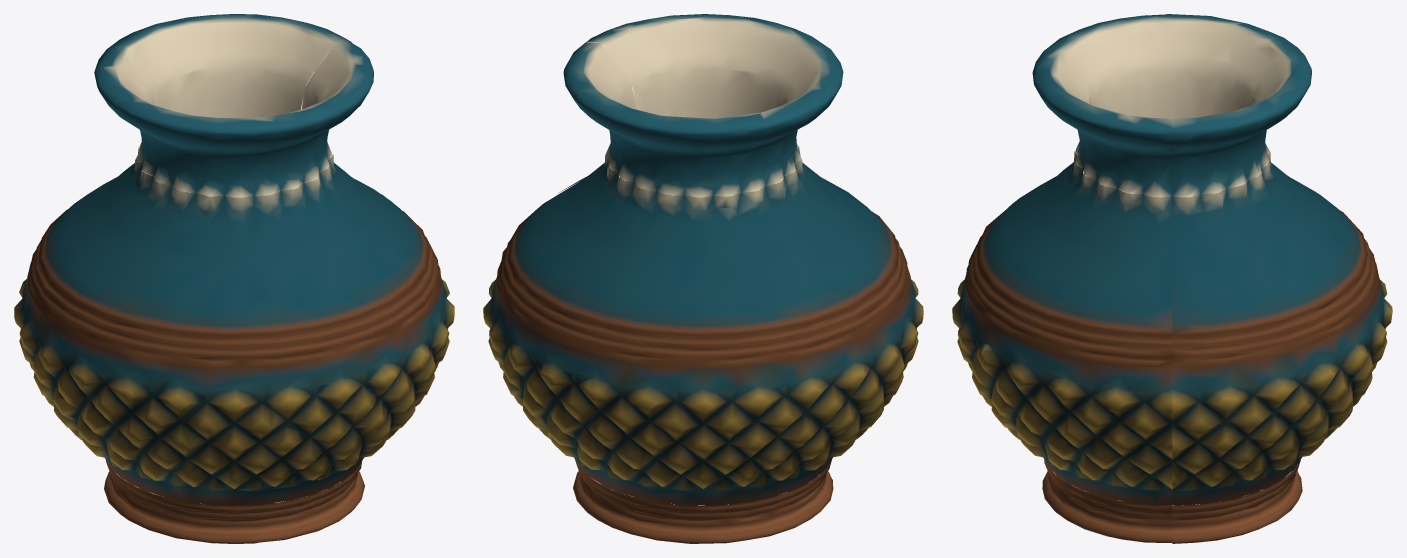
Rendered from vase_blender_optimized_draco.glb.
The picture shows the model from 3 angles, left to right: view 1: azimuth 30°, elevation 25°; view 2: azimuth 150°, elevation 25°; view 3: azimuth 270°, elevation 25°; orthographic projection.
Visible parts, largest first — view 1: vase_low; view 2: vase_low; view 3: vase_low.
Part boxes in pixels (x1,y1,x2,y2): vase_low: (14, 14, 454, 543); vase_low: (483, 14, 923, 543); vase_low: (952, 14, 1392, 543).
Size of the model in its own units: 1.83 by 1.95 by 1.83.
